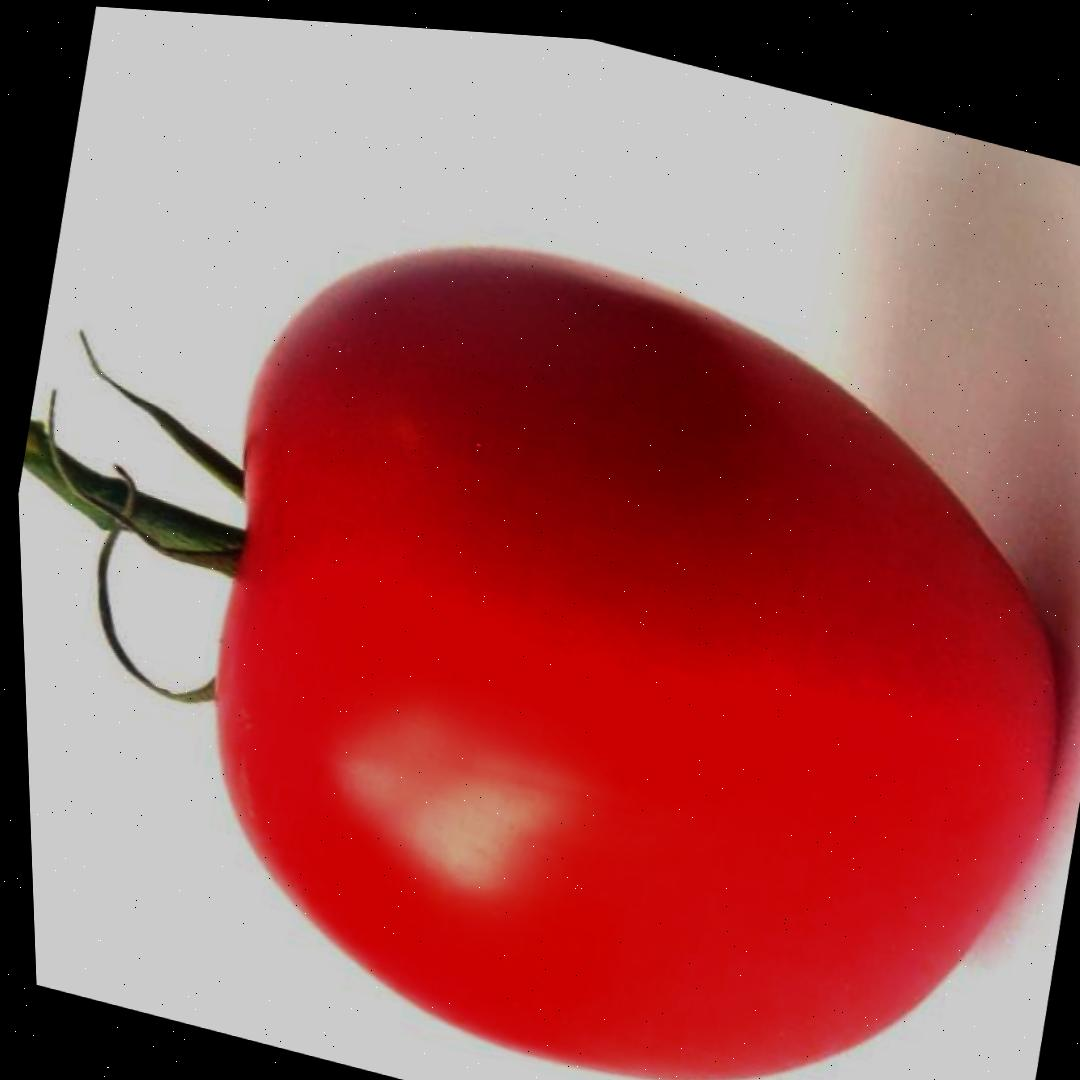matang: (5, 123, 1080, 1080)
